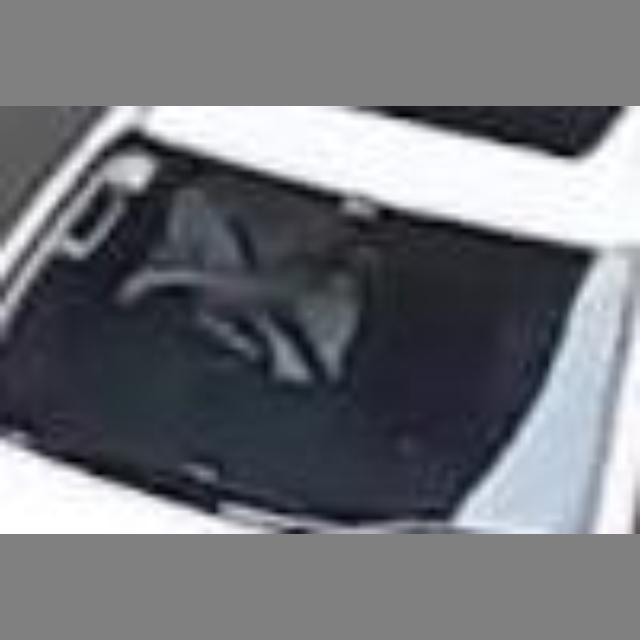pakai: (134, 144, 346, 375)
